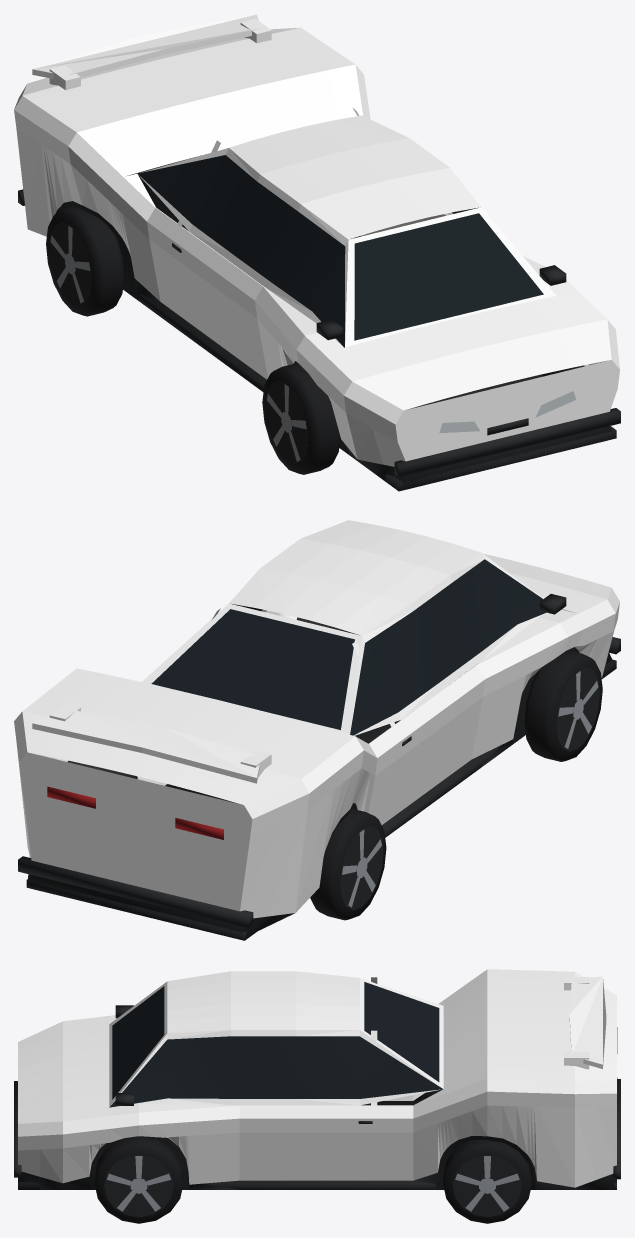
The model's file is corsalto_poeira.glb.
3 renders of one model, top to bottom at view 1: azimuth 30°, elevation 25°; view 2: azimuth 150°, elevation 25°; view 3: azimuth 270°, elevation 25°, orthographic. The views are drawn at different scales.
Parts seen in each view (by area): view 1: Body_Paint, Body_Details, Mount_RearLeft_Wheel_Details, Mount_FrontLeft_Wheel_Details; view 2: Body_Paint, Body_Details, Mount_FrontLeft_Wheel_Details, Mount_RearLeft_Wheel_Details; view 3: Body_Paint, Body_Details, Mount_FrontRight_Wheel_Details, Mount_RearRight_Wheel_Details.
Boxes of the visible parts, x1,y1,x2,y2 form: Body_Paint: (14,14,619,466); Body_Details: (18,155,620,491); Mount_RearLeft_Wheel_Details: (46,206,124,316); Mount_FrontLeft_Wheel_Details: (262,363,340,474); Body_Paint: (14,520,619,918); Body_Details: (18,559,620,940); Mount_FrontLeft_Wheel_Details: (524,650,602,761); Mount_RearLeft_Wheel_Details: (310,808,386,920); Body_Paint: (18,969,616,1187); Body_Details: (14,982,620,1189); Mount_FrontRight_Wheel_Details: (94,1136,183,1223); Mount_RearRight_Wheel_Details: (443,1140,531,1223).
Size of the model in its own units: 1.94 by 1.33 by 4.28.
Materials: 2 (1 with a texture image).
